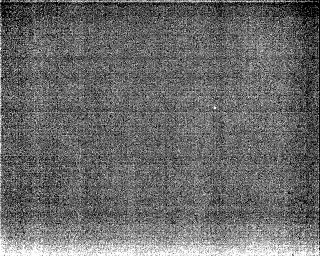BIRD: (211, 103, 219, 112)
